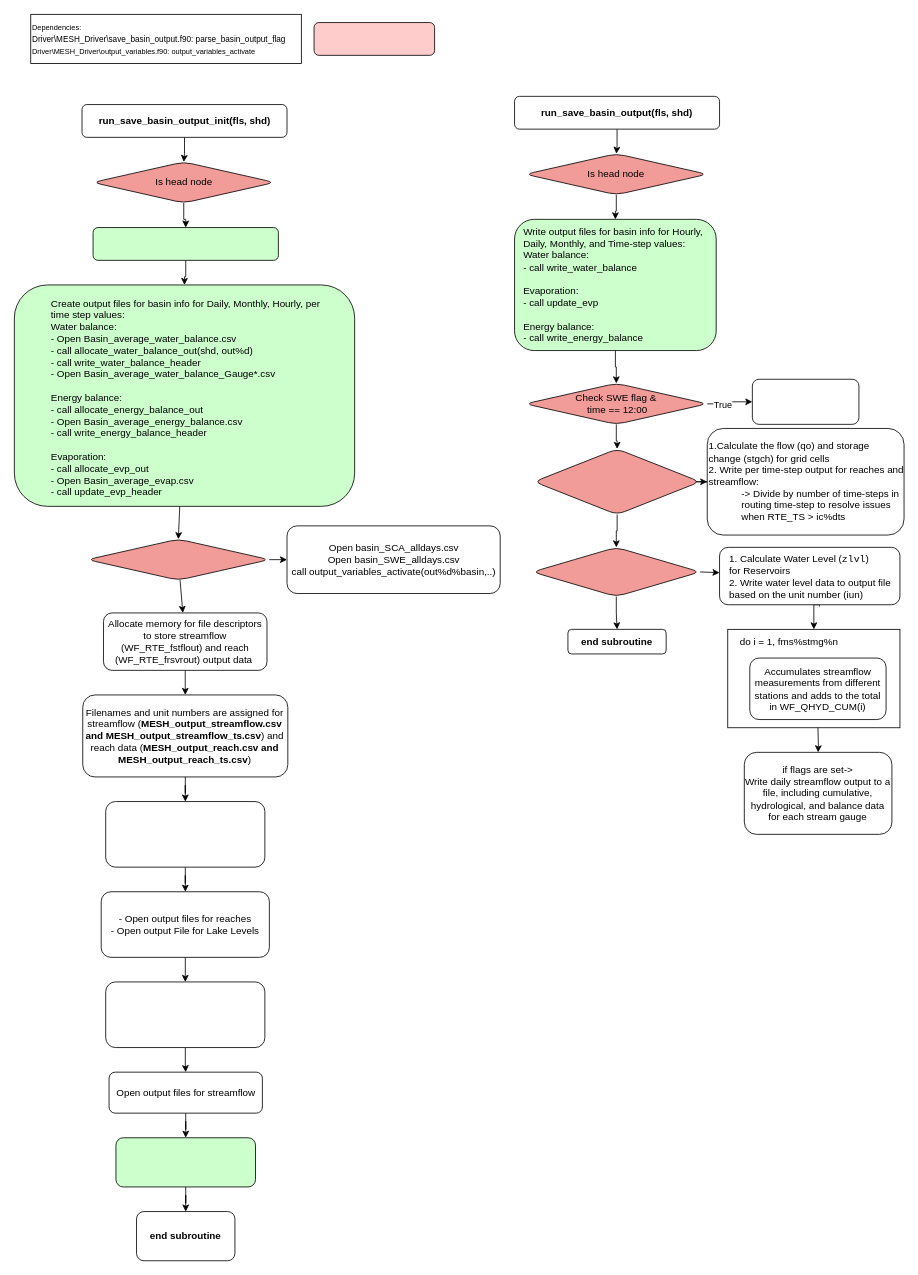
This 918x1275 diagram has some shape labels left out. The shapes that lost their labels are listed below. From the top down, each one's centre as x and y in pixels, then its label:
(374,38): save_basin_output.f90
(185,243): !> Parse output file flags. call parse_basin_output_flag x 4
(805,401): Write specific snow data (fsno and sno) to two files: 85, 86
(616,481): ro%RUNCHNL & timestep is multiple of RTE_TS
(178,559): if (btest(bnoflg%swe%t, 0))
(616,572): Check for the Last Time-Step of the Day
(185,834): Parses the REACHOUTFLAG and adjusts output frequency for reaches output
(185,1014): Parses the STREAMFLOWOUTFLAG and adjusts output frequency for reaches output
(185,1162): !> Allocate output variables call call output_variables_activate
